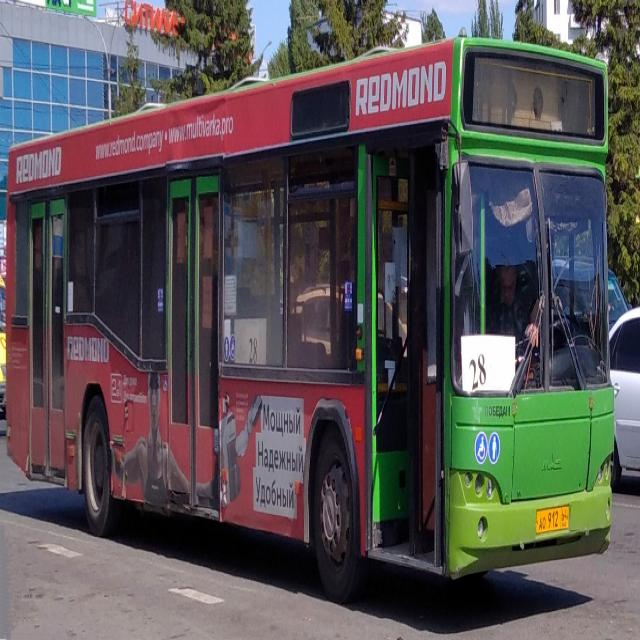number-of-bus: (467, 345, 491, 400), (249, 335, 262, 369)
